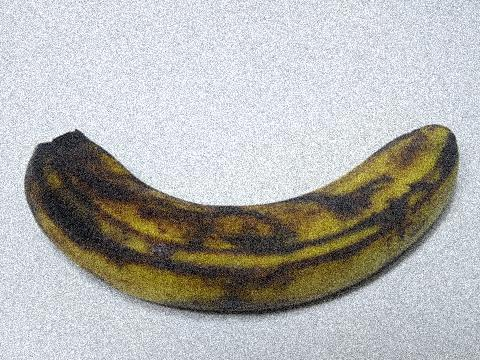overripe: (15, 118, 473, 324)
rotten: (18, 123, 134, 240)
